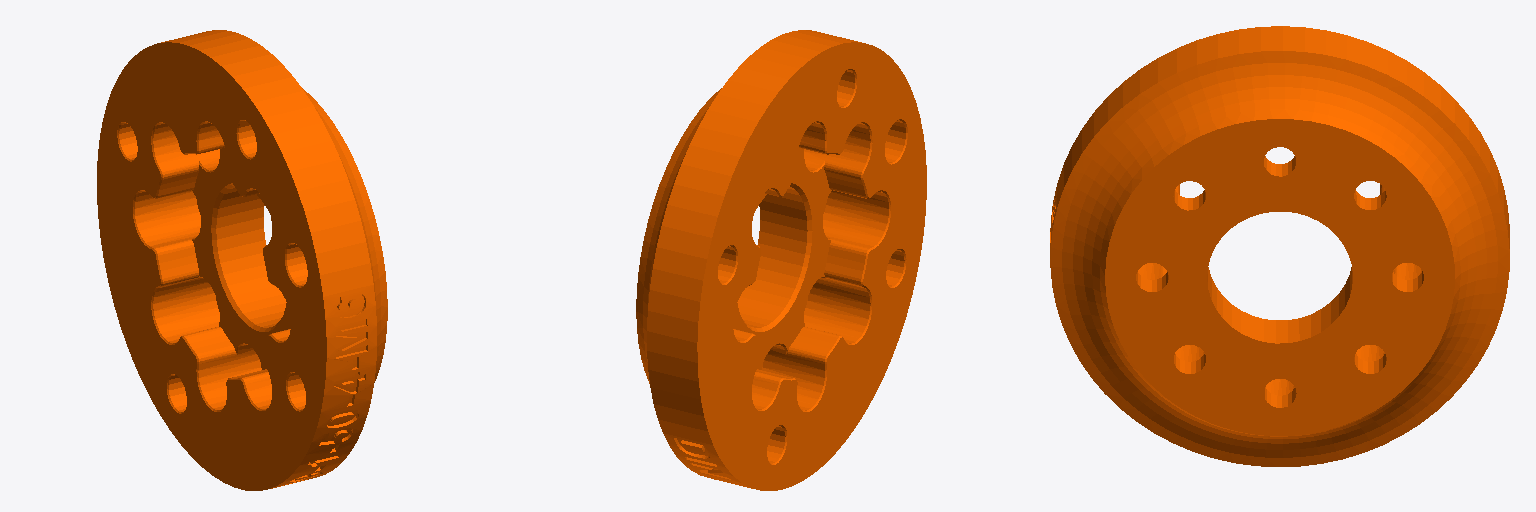
3 views of the same model, side by side, from view 1: azimuth 30°, elevation 25°; view 2: azimuth 150°, elevation 25°; view 3: azimuth 270°, elevation 25° (orthographic).
Parts seen in each view (by area): view 1: J6-6_J5; view 2: J6-6_J5; view 3: J6-6_J5.
Part boxes in pixels (left/top/right/bottom): J6-6_J5: left=97, top=30, right=387, bottom=490; J6-6_J5: left=636, top=30, right=926, bottom=490; J6-6_J5: left=1050, top=26, right=1509, bottom=466.
Size of the model in its own units: 1.4 by 6.3 by 6.3.
1 materials, 1 textured.